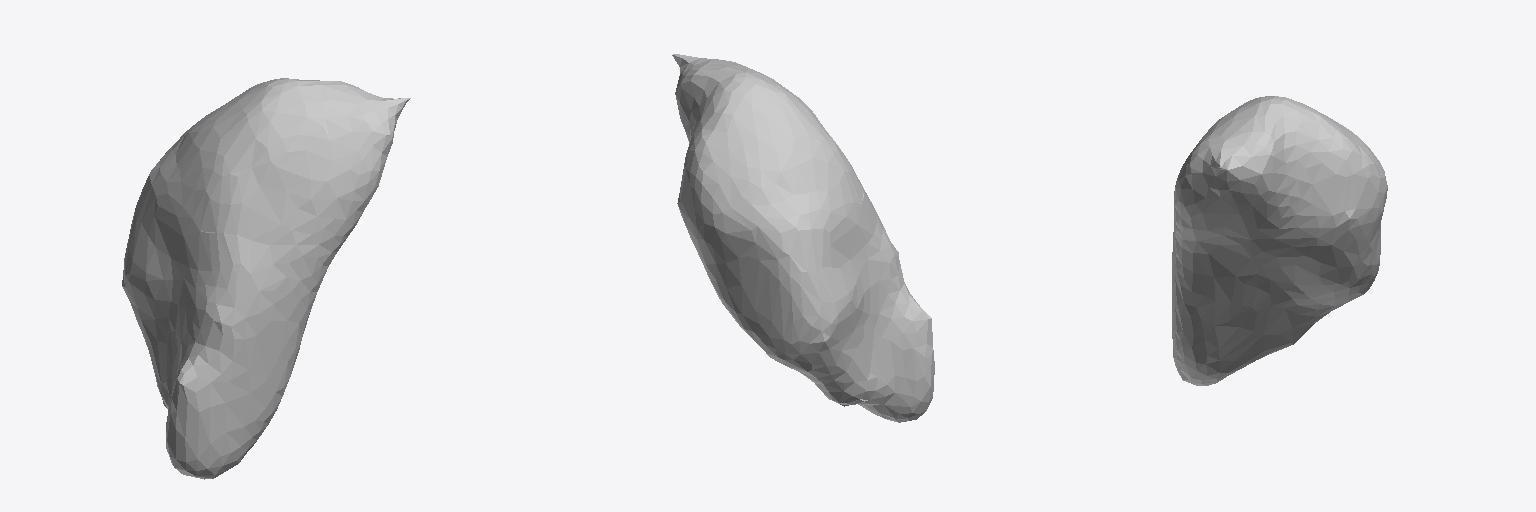
The model's file is L-Amygdala.obj.
3 renders of one model, left to right at view 1: azimuth 30°, elevation 25°; view 2: azimuth 150°, elevation 25°; view 3: azimuth 270°, elevation 25°, orthographic.
Parts seen in each view (by area): view 1: L-amygdala_amygdala; view 2: L-amygdala_amygdala; view 3: L-amygdala_amygdala.
Part boxes in pixels (x1,y1,x2,y2): L-amygdala_amygdala: (122,78,410,479); L-amygdala_amygdala: (672,54,934,422); L-amygdala_amygdala: (1172,96,1387,385).
Size of the model in its own units: 22.22 by 28.64 by 16.52.